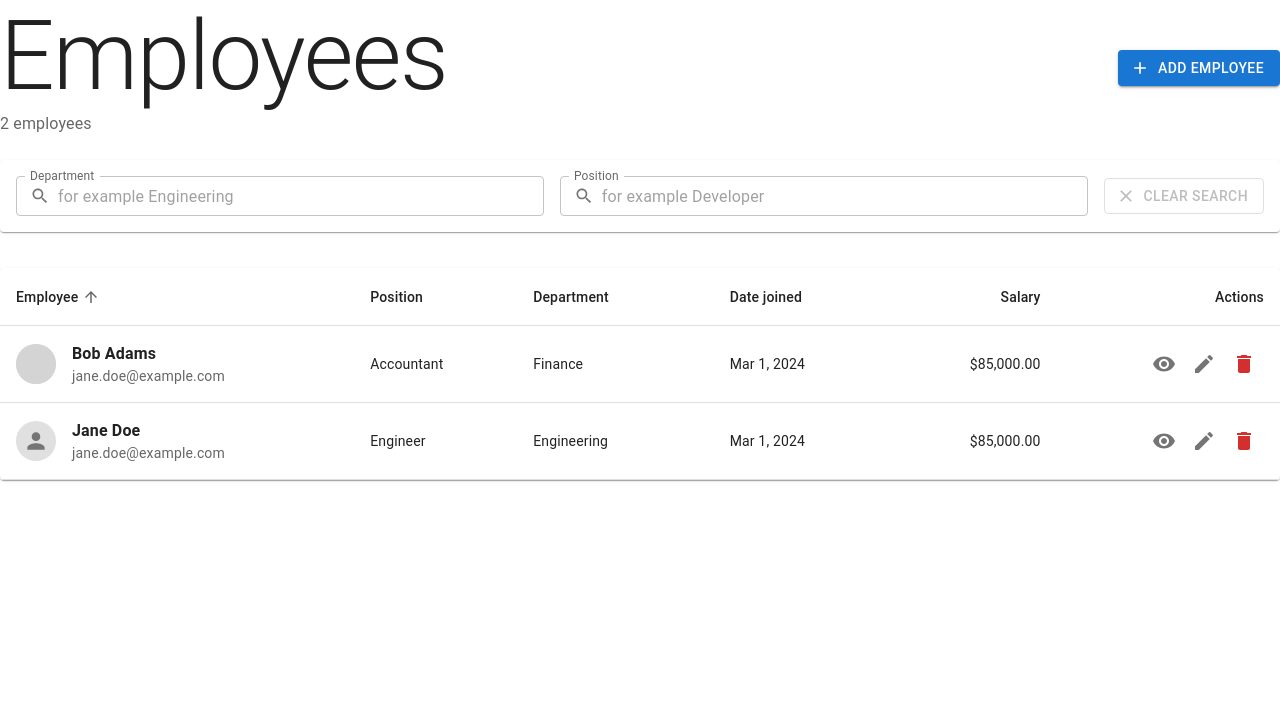
Scenario: EmployeeListPage: deleting › asks for confirmation first and sends nothing yet
Click the button named "Delete Jane Doe" at (1244, 441), box [1224, 421, 1264, 461]
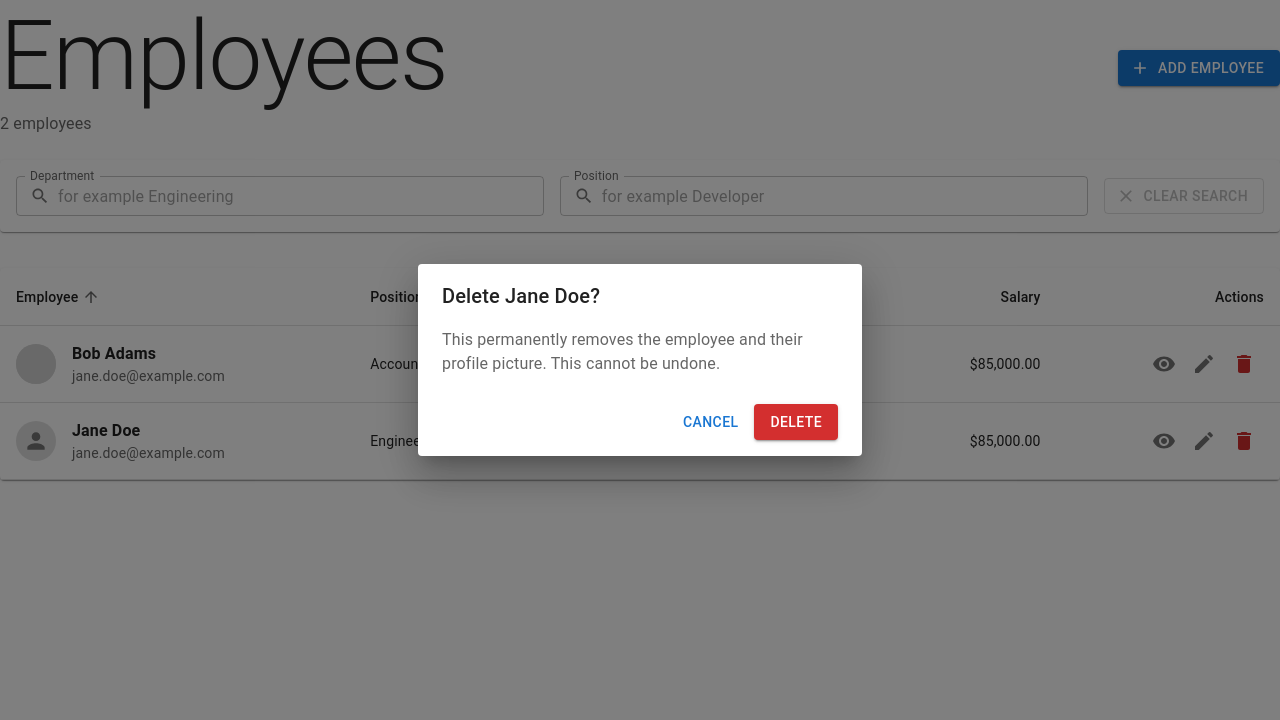
Now the dialog "Delete Jane Doe?" shows "This cannot be undone.", box [442, 330, 803, 373]
